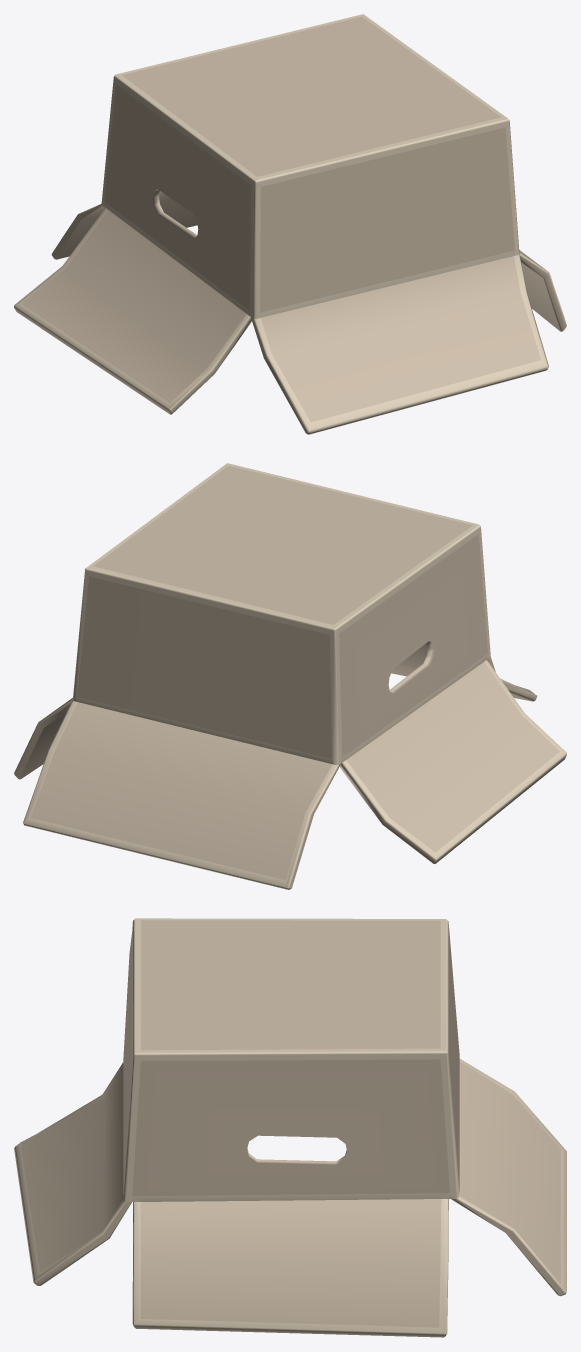
The model's file is BoxG.glb.
3 views of the same model, one above another, from view 1: azimuth 30°, elevation 25°; view 2: azimuth 150°, elevation 25°; view 3: azimuth 270°, elevation 25° (orthographic). The views are drawn at different scales.
Visible parts, largest first — view 1: BoxG; view 2: BoxG; view 3: BoxG.
Boxes of the visible parts, x1=… form: BoxG: x1=14, y1=14, x2=566, y2=434; BoxG: x1=14, y1=463, x2=566, y2=889; BoxG: x1=14, y1=918, x2=566, y2=1337.
Size of the model in its own units: 4.93 by 2.56 by 5.13.
